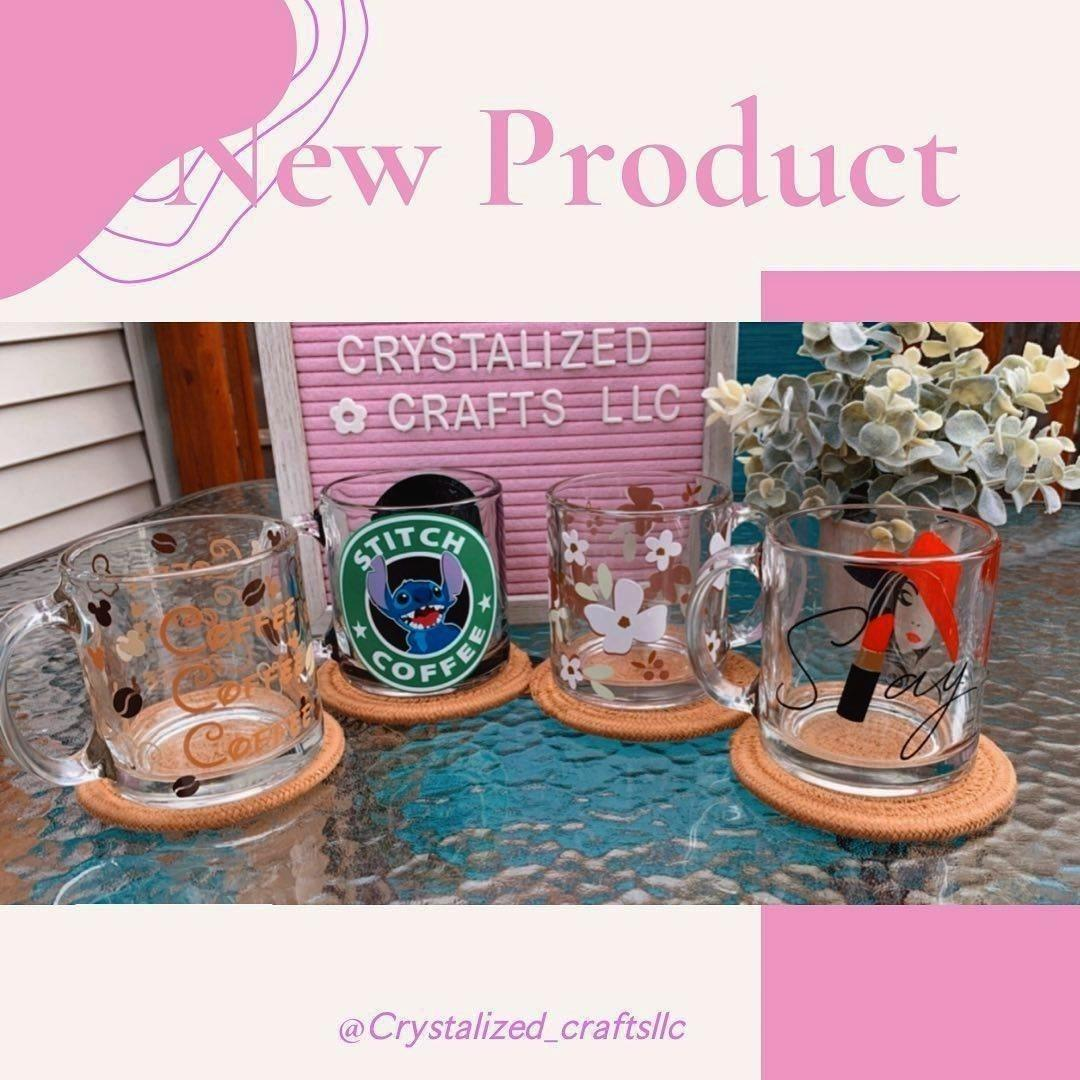glass-mug: (0, 496, 339, 813), (687, 502, 1014, 807), (545, 453, 799, 711), (261, 466, 507, 700)
